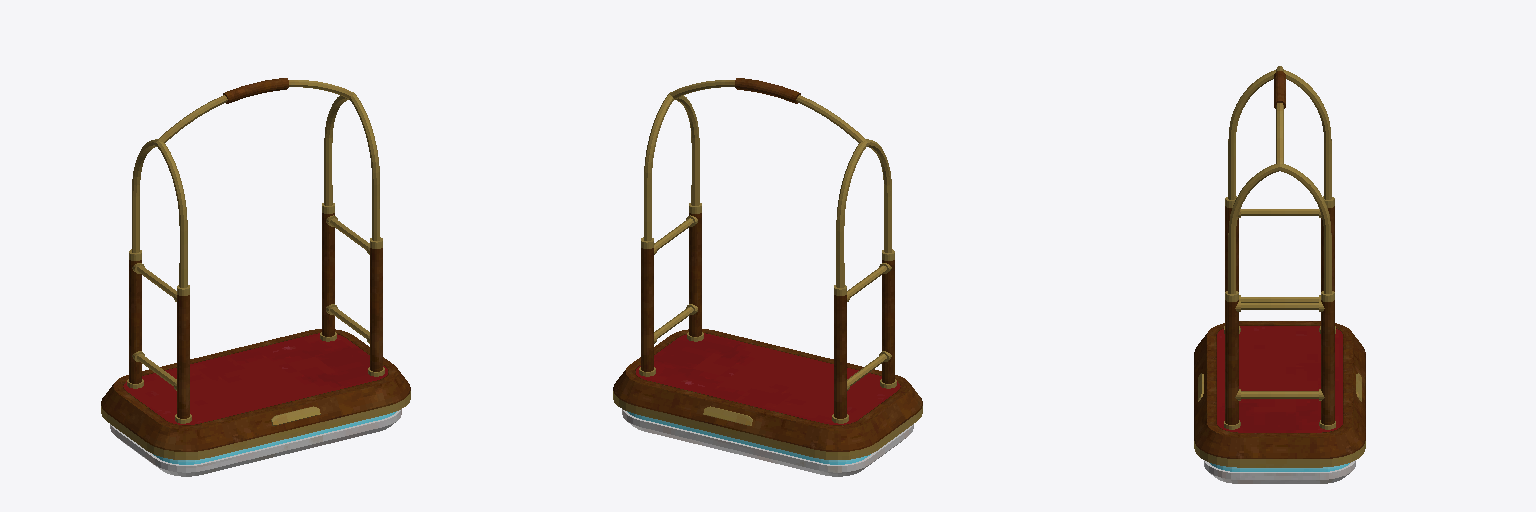
3 views of the same model, side by side, from view 1: azimuth 30°, elevation 25°; view 2: azimuth 150°, elevation 25°; view 3: azimuth 270°, elevation 25° (orthographic).
Visible parts, largest first — view 1: Trolley_TrolleyMesh; view 2: Trolley_TrolleyMesh; view 3: Trolley_TrolleyMesh.
Part boxes in pixels (bbox=[...]): Trolley_TrolleyMesh: bbox=[101, 78, 410, 476]; Trolley_TrolleyMesh: bbox=[613, 78, 922, 476]; Trolley_TrolleyMesh: bbox=[1194, 66, 1365, 483].
Bounding box in the file's own units: 1.86 × 2.37 × 1.07.
1 materials, 1 textured.